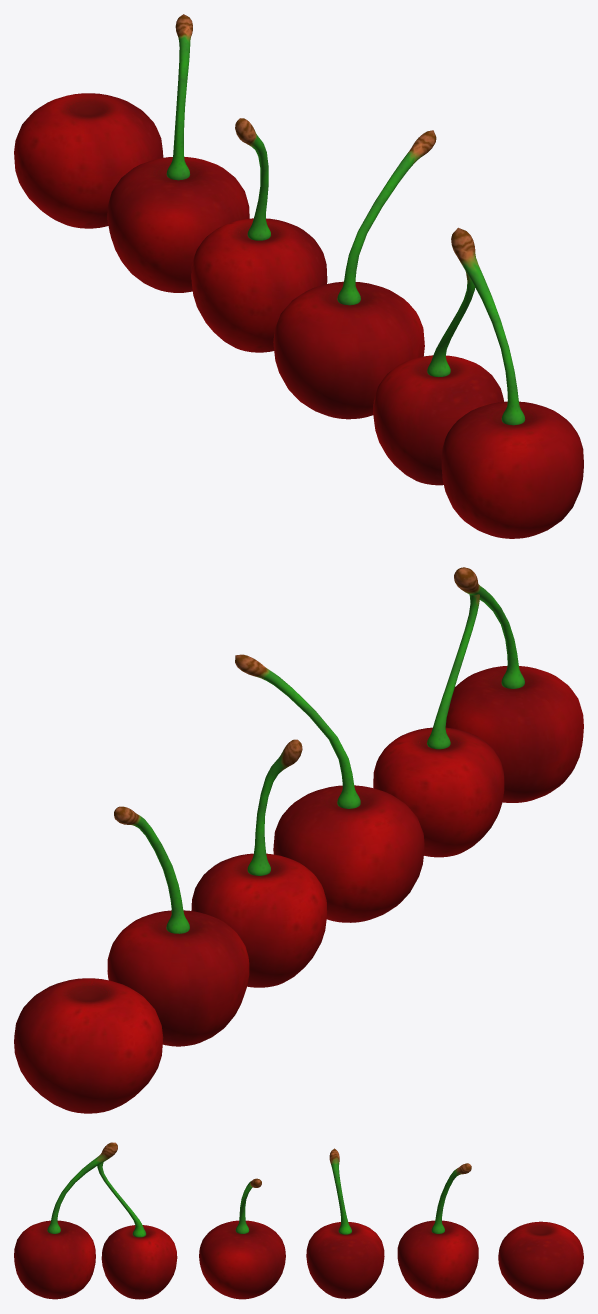
Rendered from cerise.glb.
3 views of the same model, one above another, from view 1: azimuth 30°, elevation 25°; view 2: azimuth 150°, elevation 25°; view 3: azimuth 270°, elevation 25° (orthographic). The views are drawn at different scales.
Size of the model in its own units: 1.06 by 1.62 by 5.53.
Materials: 1 (1 with a texture image).
